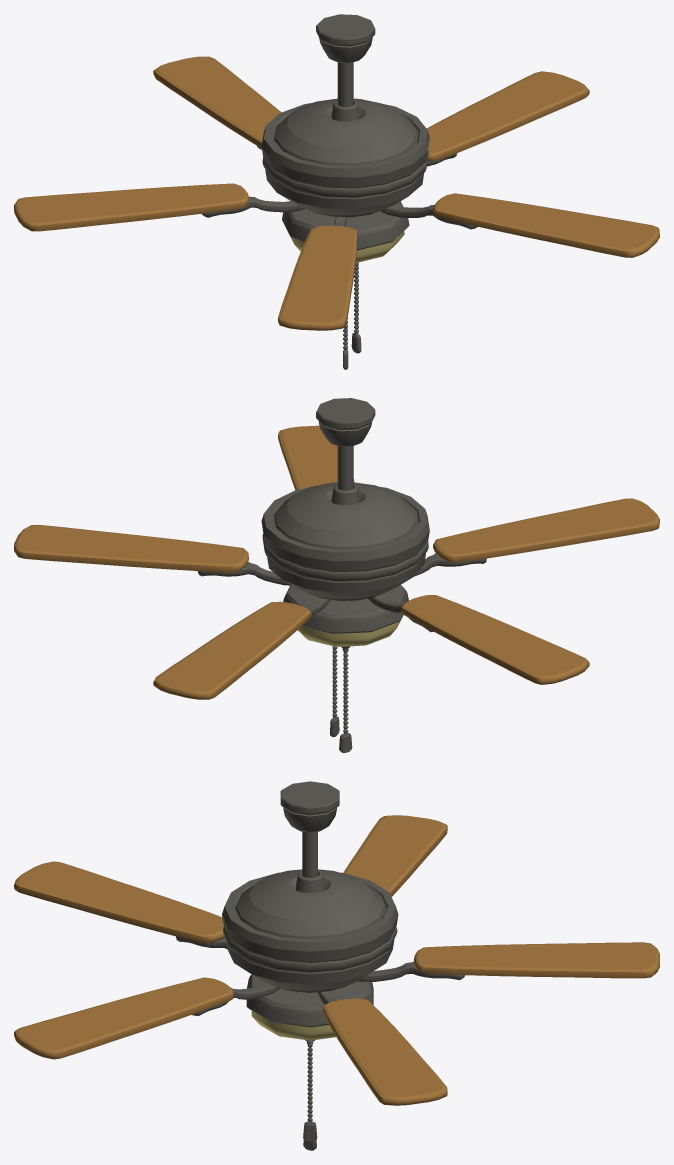
The model's file is Fan.fbx.
The picture shows the model from 3 angles, top to bottom: view 1: azimuth 30°, elevation 25°; view 2: azimuth 150°, elevation 25°; view 3: azimuth 270°, elevation 25°; orthographic projection. The views are drawn at different scales.
Visible parts, largest first — view 1: Fan Blades, Fan Body; view 2: Fan Blades, Fan Body; view 3: Fan Blades, Fan Body.
Part boxes in pixels (x1=…): Fan Blades: x1=14, y1=56, x2=659, y2=330; Fan Body: x1=261, y1=14, x2=429, y2=369; Fan Blades: x1=14, y1=425, x2=659, y2=699; Fan Body: x1=261, y1=398, x2=429, y2=752; Fan Blades: x1=14, y1=815, x2=659, y2=1105; Fan Body: x1=222, y1=781, x2=398, y2=1150.
Size of the model in its own units: 270 by 157 by 259.
